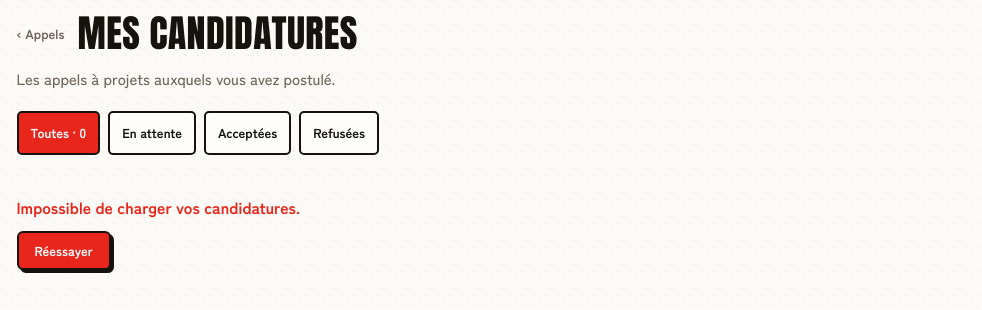
Test: MesCandidaturesClient (MC-6) › renders an error state and retries on a terminal failure
Expected: the message shows "Impossible de charger vos candidatures.", [16,194,300,218]
Click the button "Réessayer".
click(64, 250)  # box [16,230,111,270]
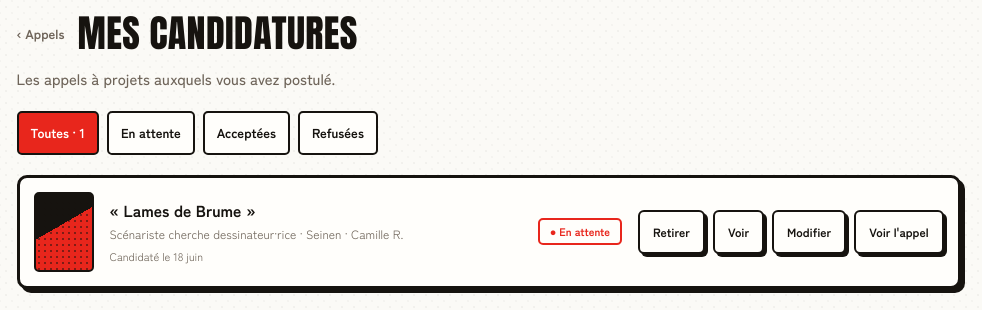
Expected: the text "« Lames de Brume »" is shown, [110,198,256,222]
